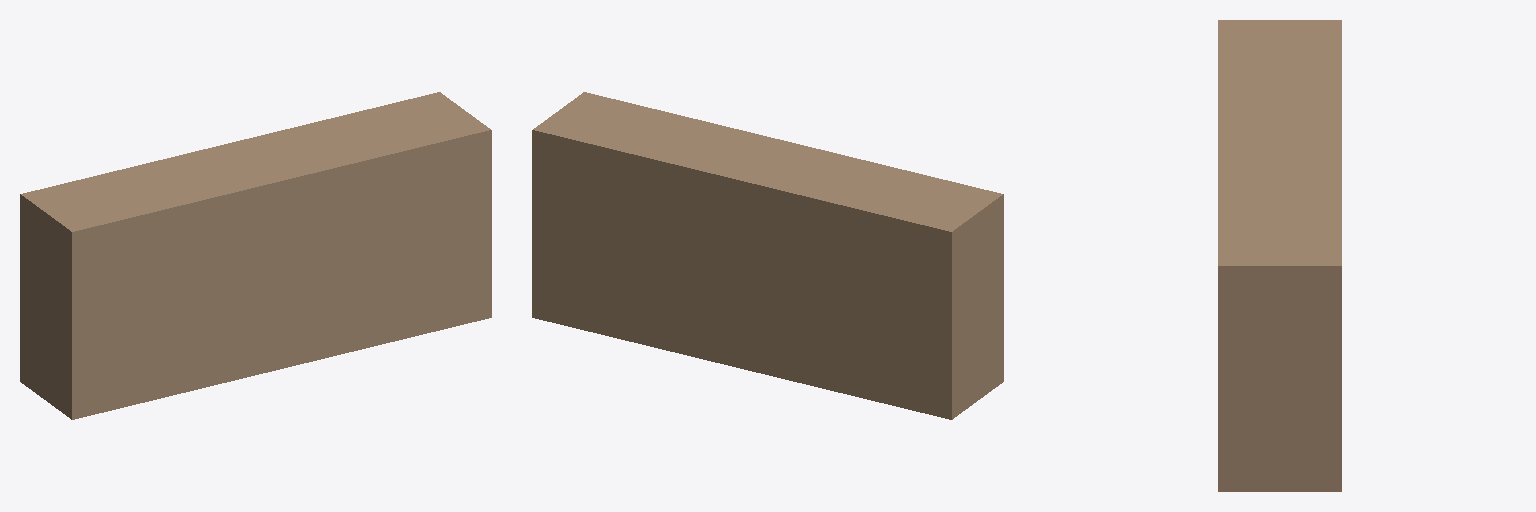
robot.urdf — ds4:
<?xml version="1.0"?>
<robot name="ds4">
    <link name="ds4_base_link"/>

    <link name="ds4_adapter_link">
        <visual name="ds4_adapter_visual">
            <geometry>
                <mesh filename="file://@MC_MESH_DIR@/ds4_adapter.stl"/>
            </geometry>
            <material name="grey">
                <color rgba="0.6 0.6 0.6 1"/>
            </material>
        </visual>
        <inertial>
            <origin xyz="-0.0001681638469675113 -0.0024779164507503317 0.059811455964133025" rpy="0 0 0"/>
            <mass value="0.0698"/>
            <inertia ixx="5.40350E-05" ixy="8.13203E-08" ixz="1.70226E-06"
                    iyy="5.69809E-05" iyz="1.05961E-06" izz="8.81951E-05"/>
        </inertial>
        <collision name="ds4_adapter_collision">
            <geometry>
                <mesh filename="file://@MC_MESH_DIR@/ds4_adapter.stl"/>
            </geometry>
        </collision>
    </link>

    <link name="ds4_actual_controller_link">
        <visual name="ds4_actual_controller">
            <geometry>
                <box size="0.14 0.03 0.06"/>
            </geometry>
            <material name="">
                <color rgba="0.7 0.6 0.5 1"/>
            </material>
        </visual>
        <inertial>
            <origin xyz="0.0 0.0 0.045" rpy="0 0 0"/>
            <mass value="0.2162"/>
            <inertia ixx="5.40350E-05" ixy="8.13203E-08" ixz="1.70226E-06"
                    iyy="5.69809E-05" iyz="1.05961E-06" izz="8.81951E-05"/>
        </inertial>
        <collision name="ds4_actual_controller_collision">
            <origin xyz="0.0 0.0 0.045" rpy="0 0 0"/>
            <geometry>
                <box size="0.14 0.03 0.06"/>
            </geometry>
        </collision>
    </link>

    <joint name="ds4_adapter_joint" type="fixed">
        <parent link="ds4_base_link"/>
        <child link="ds4_adapter_link"/>
        <origin xyz="0.0 0.0 0.0" rpy="0 0 0"/>
    </joint>

    <joint name="ds4_actual_controller_joint" type="fixed">
        <parent link="ds4_base_link"/>
        <child link="ds4_actual_controller_link"/>
        <origin xyz="0.0 0.0 0.08" rpy="0 0 0"/>
    </joint>

</robot>

--- Facts derived from the render (not from the file) ---
The picture shows the robot from 3 angles, left to right: view 1: azimuth 30°, elevation 25°; view 2: azimuth 150°, elevation 25°; view 3: azimuth 270°, elevation 25°; orthographic projection.
Model ds4 with 3 links and 2 joints (2 fixed), rooted at ds4_base_link, posed every joint at zero.
Visible links, largest first — view 1: ds4_actual_controller_link; view 2: ds4_actual_controller_link; view 3: ds4_actual_controller_link.
Boxes of the visible links, left/top/right/bottom form: ds4_actual_controller_link: left=20, top=92, right=491, bottom=419; ds4_actual_controller_link: left=532, top=92, right=1003, bottom=419; ds4_actual_controller_link: left=1218, top=20, right=1341, bottom=491.
Bounding box of the posed robot: 0.14 × 0.03 × 0.06 m (x, y, z).
Geometry: only primitive shapes (box / cylinder / sphere) drawn; not drawn: 1 mesh visual (reference in a form the renderer does not follow).
